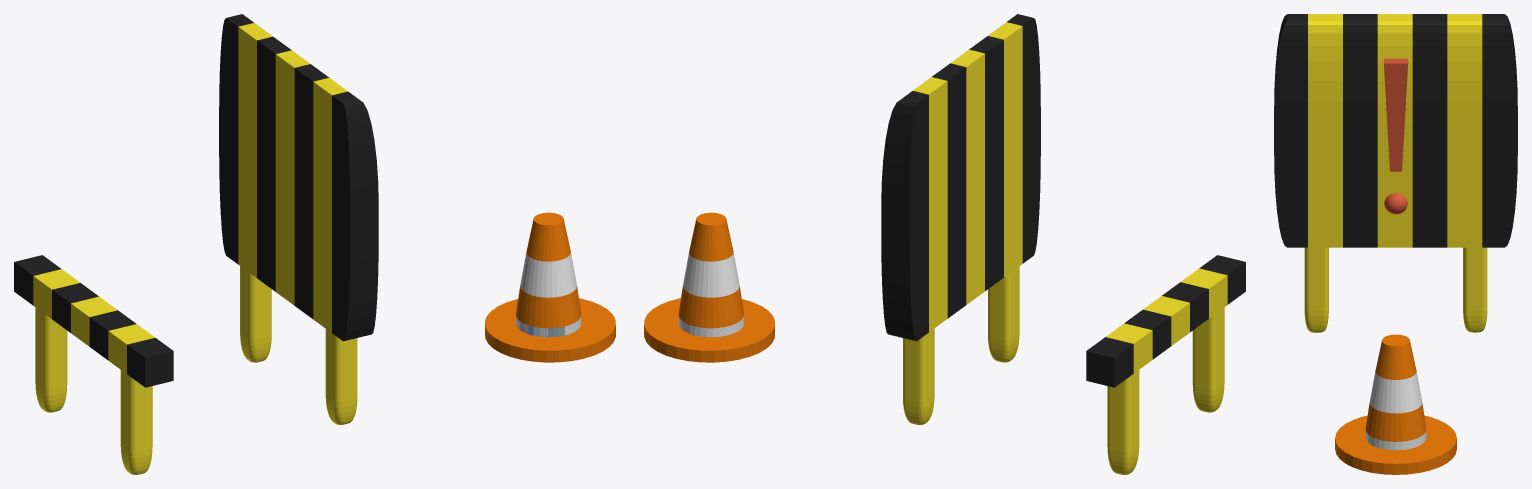
Rendered from PosteSaltable 1.fbx.
3 renders of one model, left to right at view 1: azimuth 30°, elevation 25°; view 2: azimuth 150°, elevation 25°; view 3: azimuth 270°, elevation 25°, orthographic. The views are drawn at different scales.
Visible parts, largest first — view 1: Poste, PosteSaltable, Cono; view 2: Poste, PosteSaltable, Cono; view 3: Poste, Cono.
Boxes of the visible parts, x1,y1,x2,y2 form: Poste: [219, 14, 378, 424]; PosteSaltable: [14, 255, 173, 474]; Cono: [485, 212, 615, 362]; Poste: [881, 14, 1040, 424]; PosteSaltable: [1086, 255, 1245, 474]; Cono: [644, 212, 774, 362]; Poste: [1274, 14, 1517, 332]; Cono: [1335, 334, 1456, 474].
Size of the model in its own units: 464 by 285 by 200.
1 material, 1 textured.
